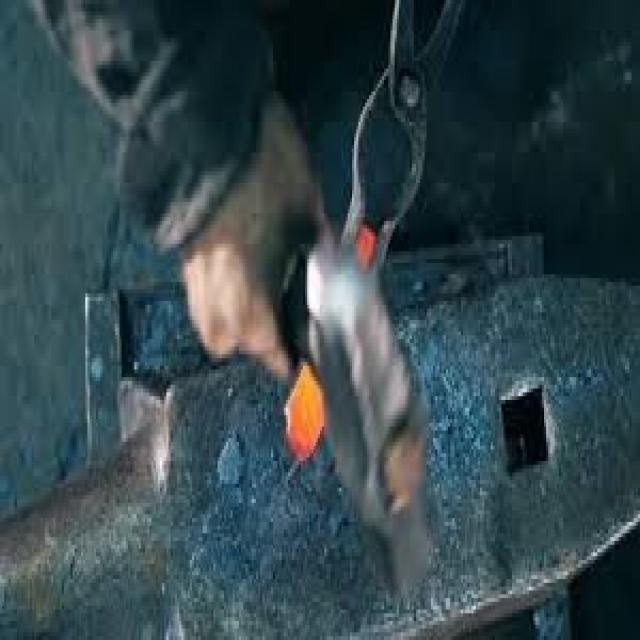hammer: (197, 206, 452, 614)
